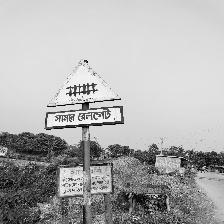Rail-crossing: (46, 60, 123, 130)
